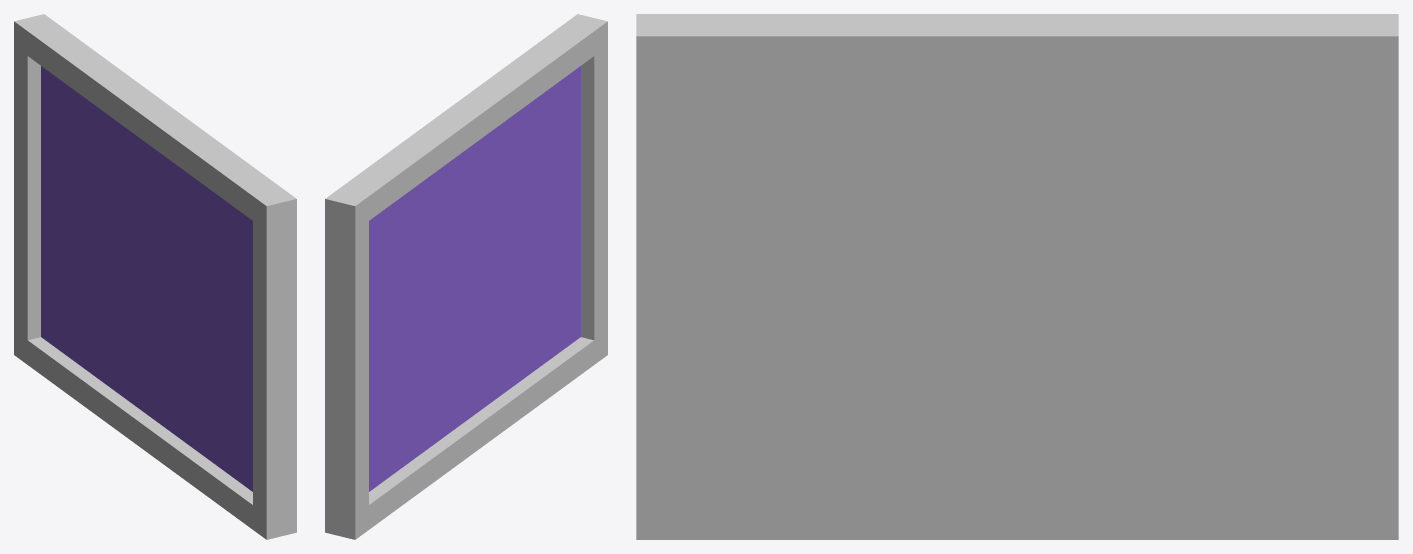
File: wall_paint_01.fbx
3 views of the same model, side by side, from view 1: azimuth 30°, elevation 25°; view 2: azimuth 150°, elevation 25°; view 3: azimuth 270°, elevation 25° (orthographic). The views are drawn at different scales.
Parts seen in each view (by area): view 1: Cube.005; view 2: Cube.005; view 3: Cube.005.
Part boxes in pixels (x1=…): Cube.005: x1=14, y1=14, x2=296, y2=539; Cube.005: x1=325, y1=14, x2=607, y2=539; Cube.005: x1=636, y1=14, x2=1398, y2=539.
Bounding box in the file's own units: 4.57 × 48.39 × 66.39.
